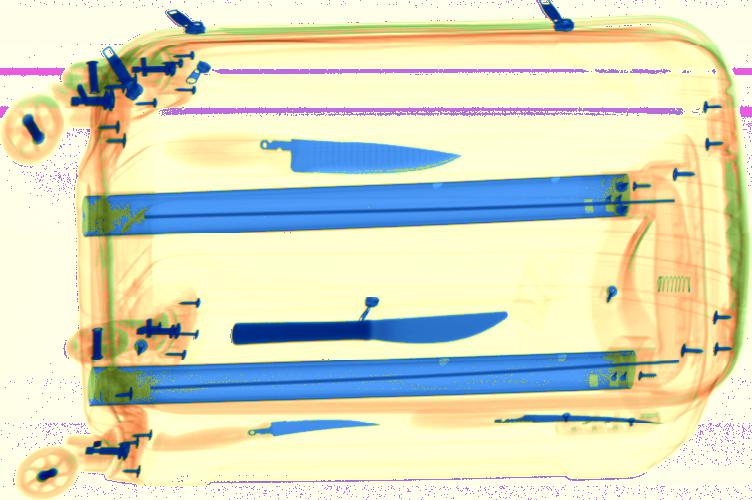Knife: (231, 306, 509, 350), (165, 136, 464, 176), (151, 417, 379, 451), (412, 412, 663, 430)
